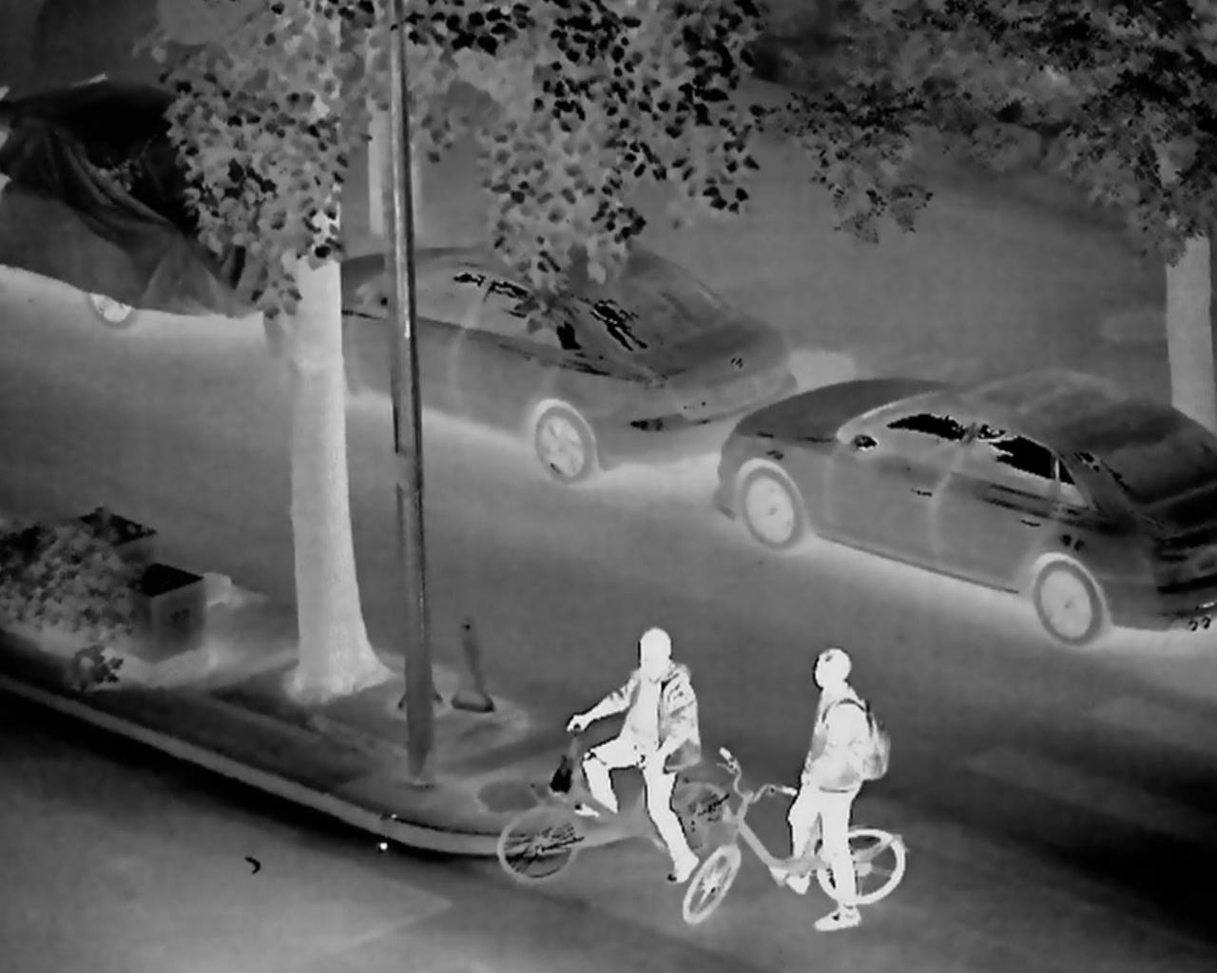person: (557, 605, 717, 883), (771, 637, 904, 941)
